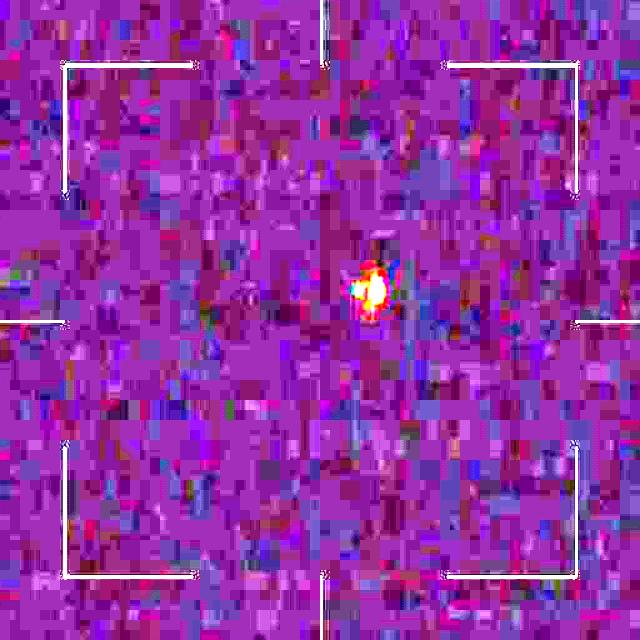bird: (351, 268, 385, 319)
